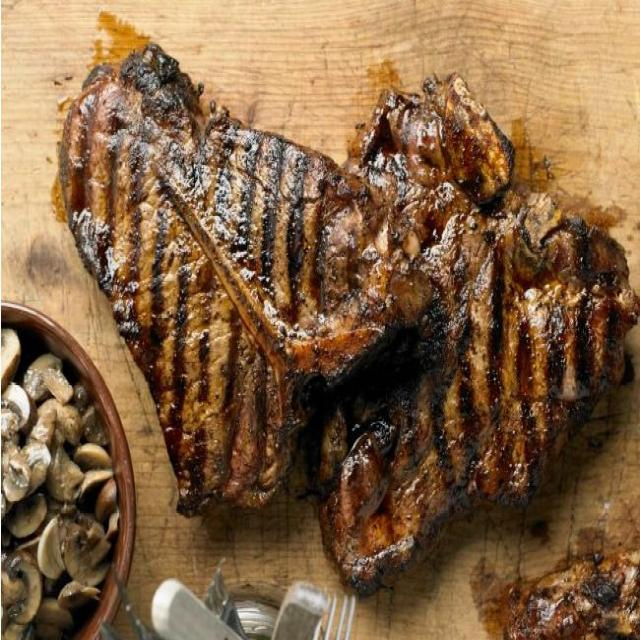Carne: (55, 37, 638, 597)
